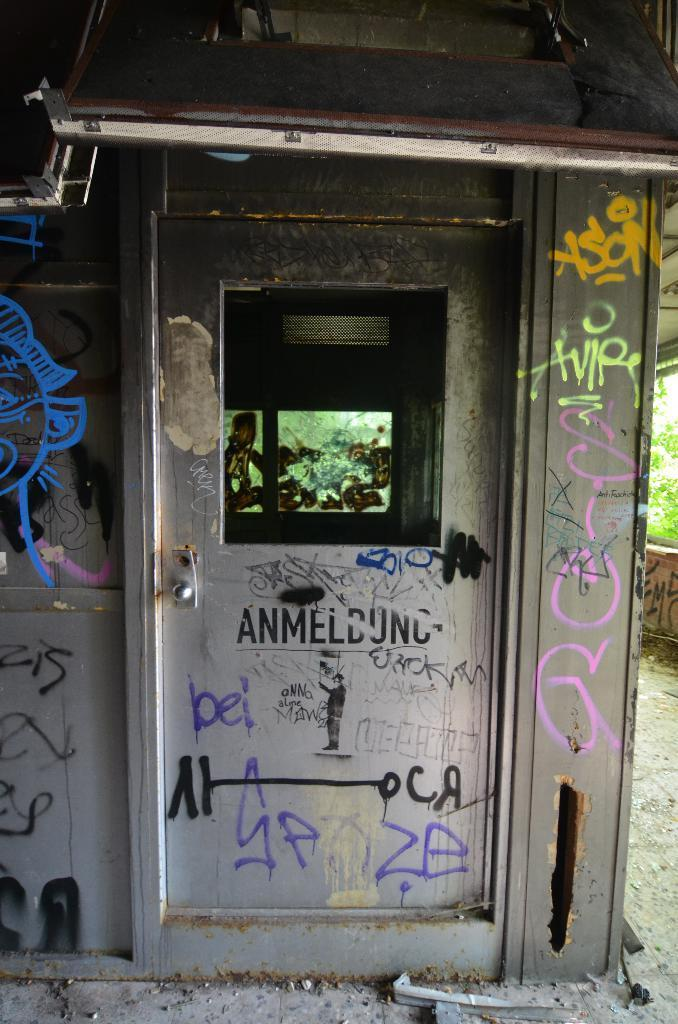door: (151, 206, 501, 918)
handle: (173, 572, 196, 608)
